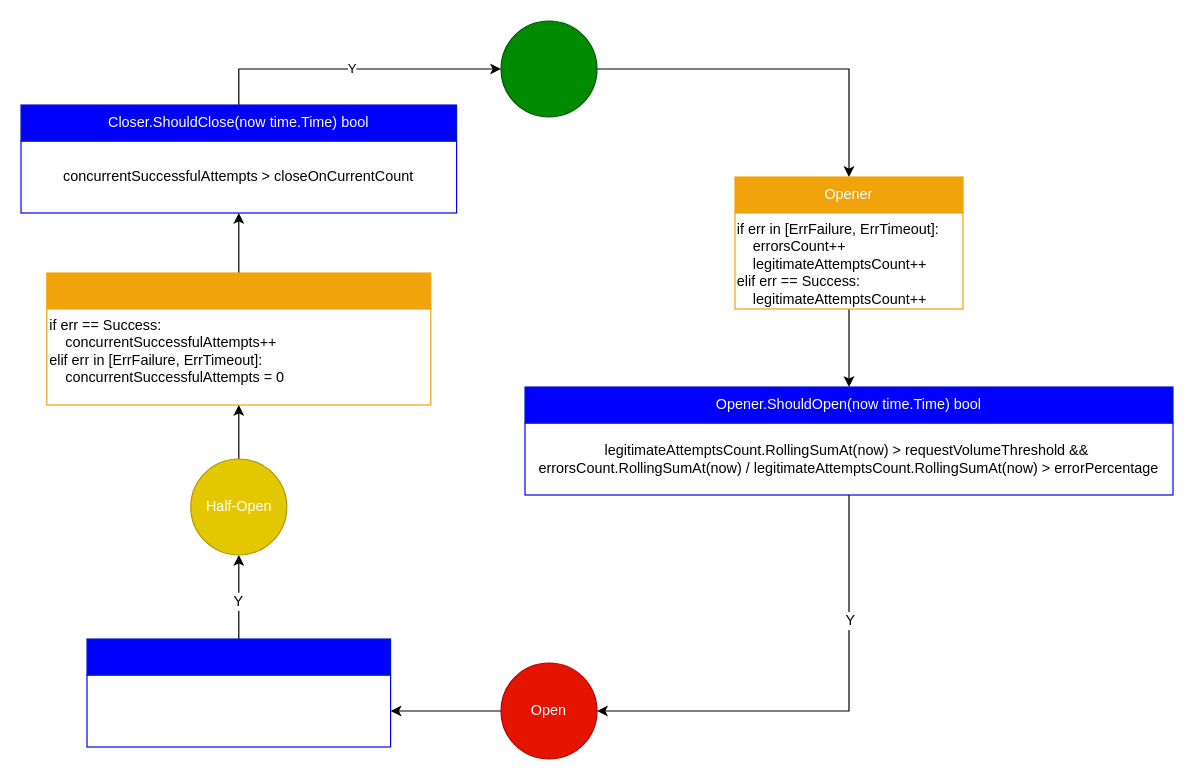
Some shapes in this 1194 by 780 pixel diagram are drawn without their labels. The shapes that lost their labels are listed below. From the top down, each one's box as (x1, y1, x2, y2) in pixels, then its label:
(500, 20, 597, 117): Closed
(46, 272, 431, 309): Closer
(86, 638, 391, 675): Closer.Allow(now time.Time) bool
(86, 674, 391, 747): reopenCircuitCheck.Check(now)
